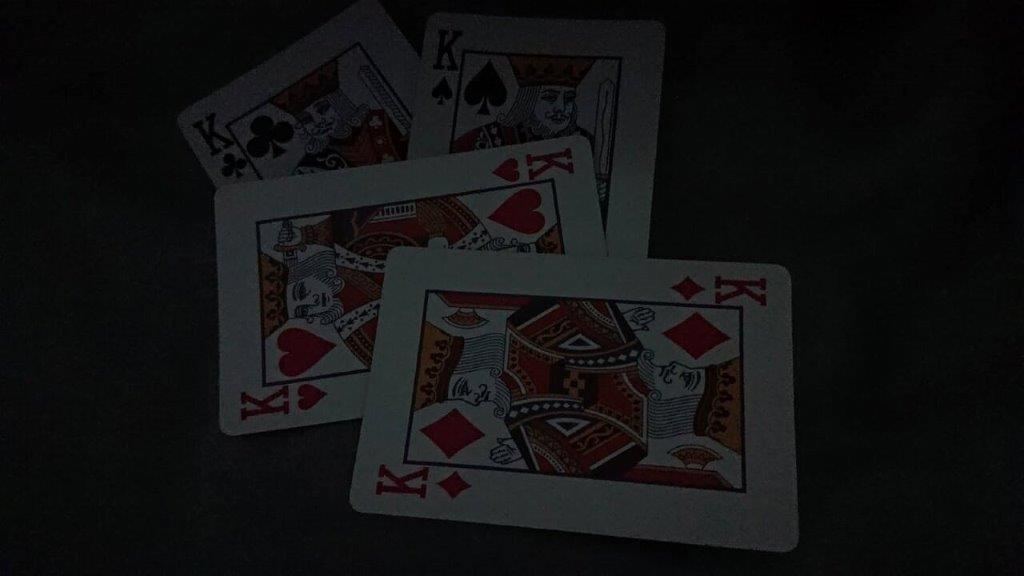KC: (183, 107, 258, 185)
KS: (423, 23, 470, 110)
